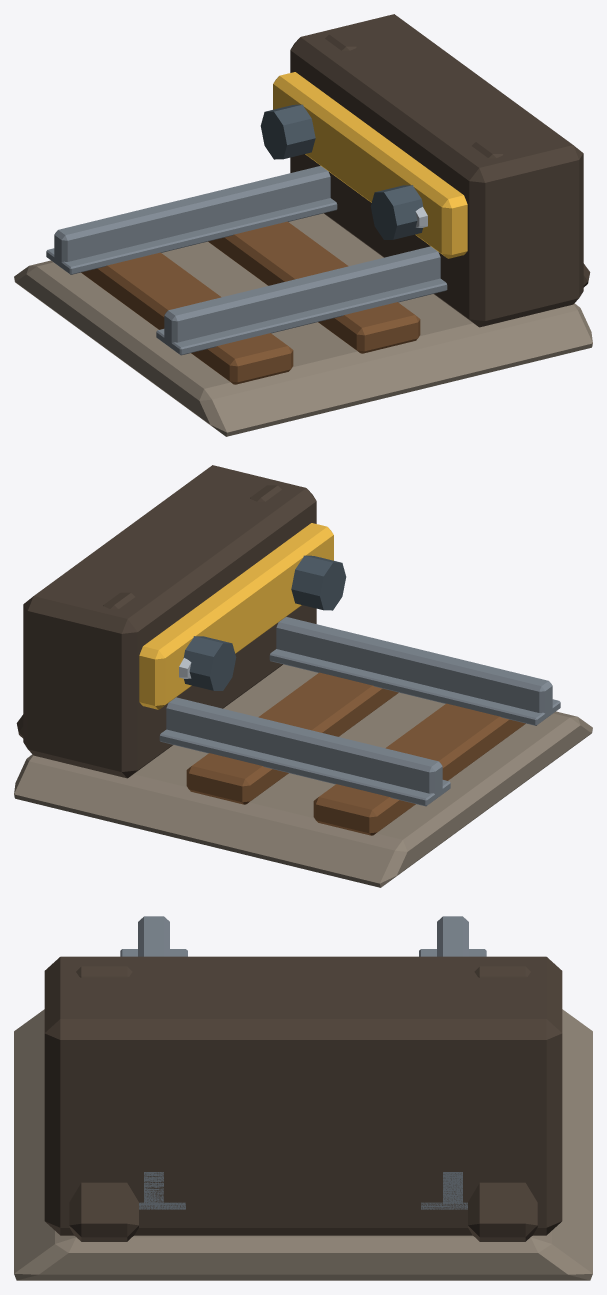
Rendered from Track_Buffer.fbx.
3 views of the same model, one above another, from view 1: azimuth 30°, elevation 25°; view 2: azimuth 150°, elevation 25°; view 3: azimuth 270°, elevation 25° (orthographic). The views are drawn at different scales.
Parts seen in each view (by area): view 1: Timber, Gravel, Steel, WoodDark, Amber_Metal, Frame; view 2: Timber, Gravel, Steel, WoodDark, Amber_Metal, Frame; view 3: Timber, Gravel, Steel.
Part boxes in pixels (x1,y1,x2,y2): Timber: (290, 14, 590, 327); Gravel: (14, 213, 592, 436); Steel: (46, 166, 447, 355); WoodDark: (81, 221, 420, 384); Amber_Metal: (273, 72, 467, 258); Frame: (260, 104, 423, 239); Timber: (16, 465, 316, 778); Gravel: (14, 664, 592, 887); Steel: (159, 617, 560, 806); WoodDark: (186, 672, 525, 835); Amber_Metal: (139, 523, 333, 709); Frame: (183, 555, 346, 690); Timber: (44, 956, 562, 1241); Gravel: (14, 1009, 592, 1280); Steel: (120, 916, 486, 1209).
Bounding box in the file's own units: 3.11 × 1.46 × 2.91.
